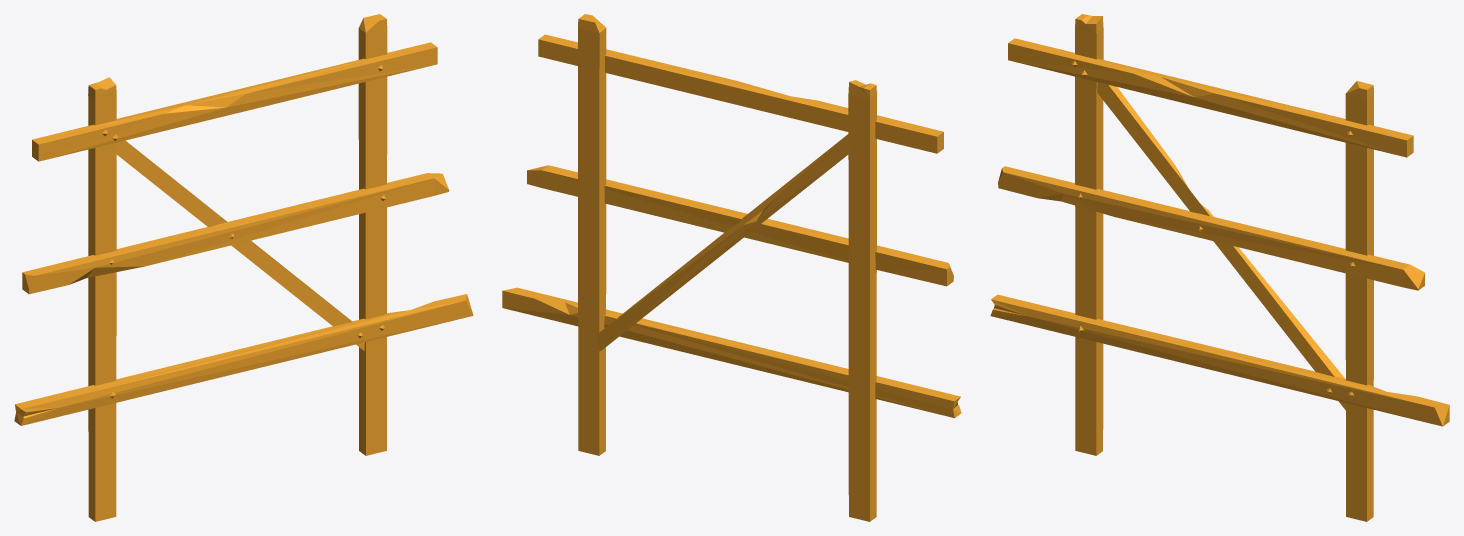
File: SM_Hay_Drying_Rack_Square_A.fbx
The picture shows the model from 3 angles, left to right: view 1: azimuth 30°, elevation 25°; view 2: azimuth 150°, elevation 25°; view 3: azimuth 330°, elevation 25°; orthographic projection.
Parts seen in each view (by area): view 1: hay-drying-rack-square-a; view 2: hay-drying-rack-square-a; view 3: hay-drying-rack-square-a.
Boxes of the visible parts, left/top/right/bottom form: hay-drying-rack-square-a: left=14, top=14, right=473, bottom=521; hay-drying-rack-square-a: left=502, top=14, right=961, bottom=521; hay-drying-rack-square-a: left=990, top=14, right=1449, bottom=521.
Bounding box in the file's own units: 1.94 × 1.79 × 0.1075.
